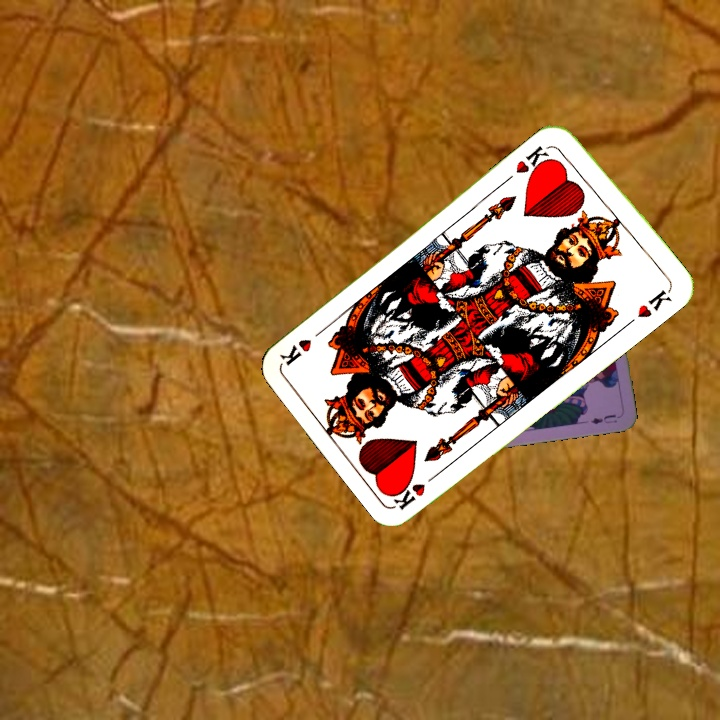HK: (389, 467, 444, 513), (511, 140, 556, 181)
